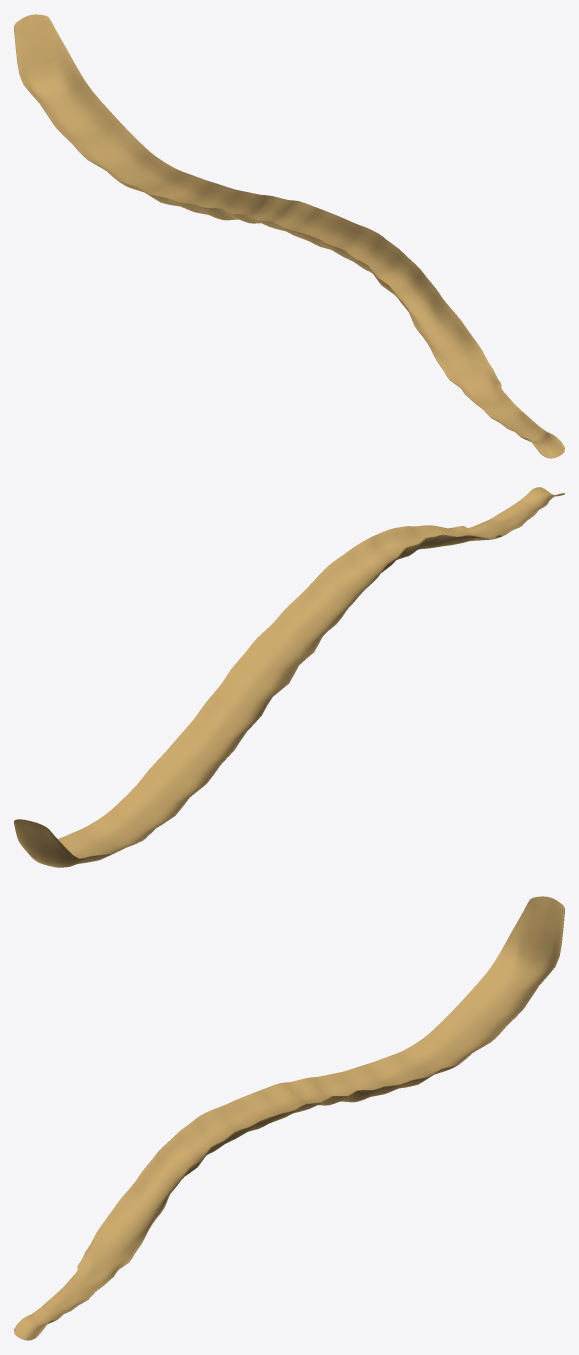
The picture shows the model from 3 angles, top to bottom: view 1: azimuth 30°, elevation 25°; view 2: azimuth 150°, elevation 25°; view 3: azimuth 330°, elevation 25°; orthographic projection.
Visible parts, largest first — view 1: 前纵韧带; view 2: 前纵韧带; view 3: 前纵韧带.
Boxes of the visible parts, x1,y1,x2,y2 form: 前纵韧带: (14, 14, 564, 458); 前纵韧带: (14, 487, 564, 867); 前纵韧带: (14, 896, 564, 1340).
Size of the model in its own units: 0.0575 by 0.096 by 0.9009.
